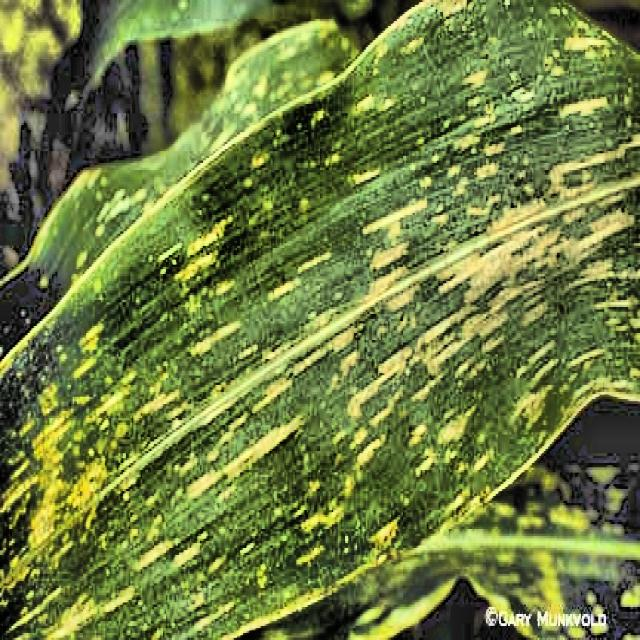gray_spot: (0, 0, 639, 638)
